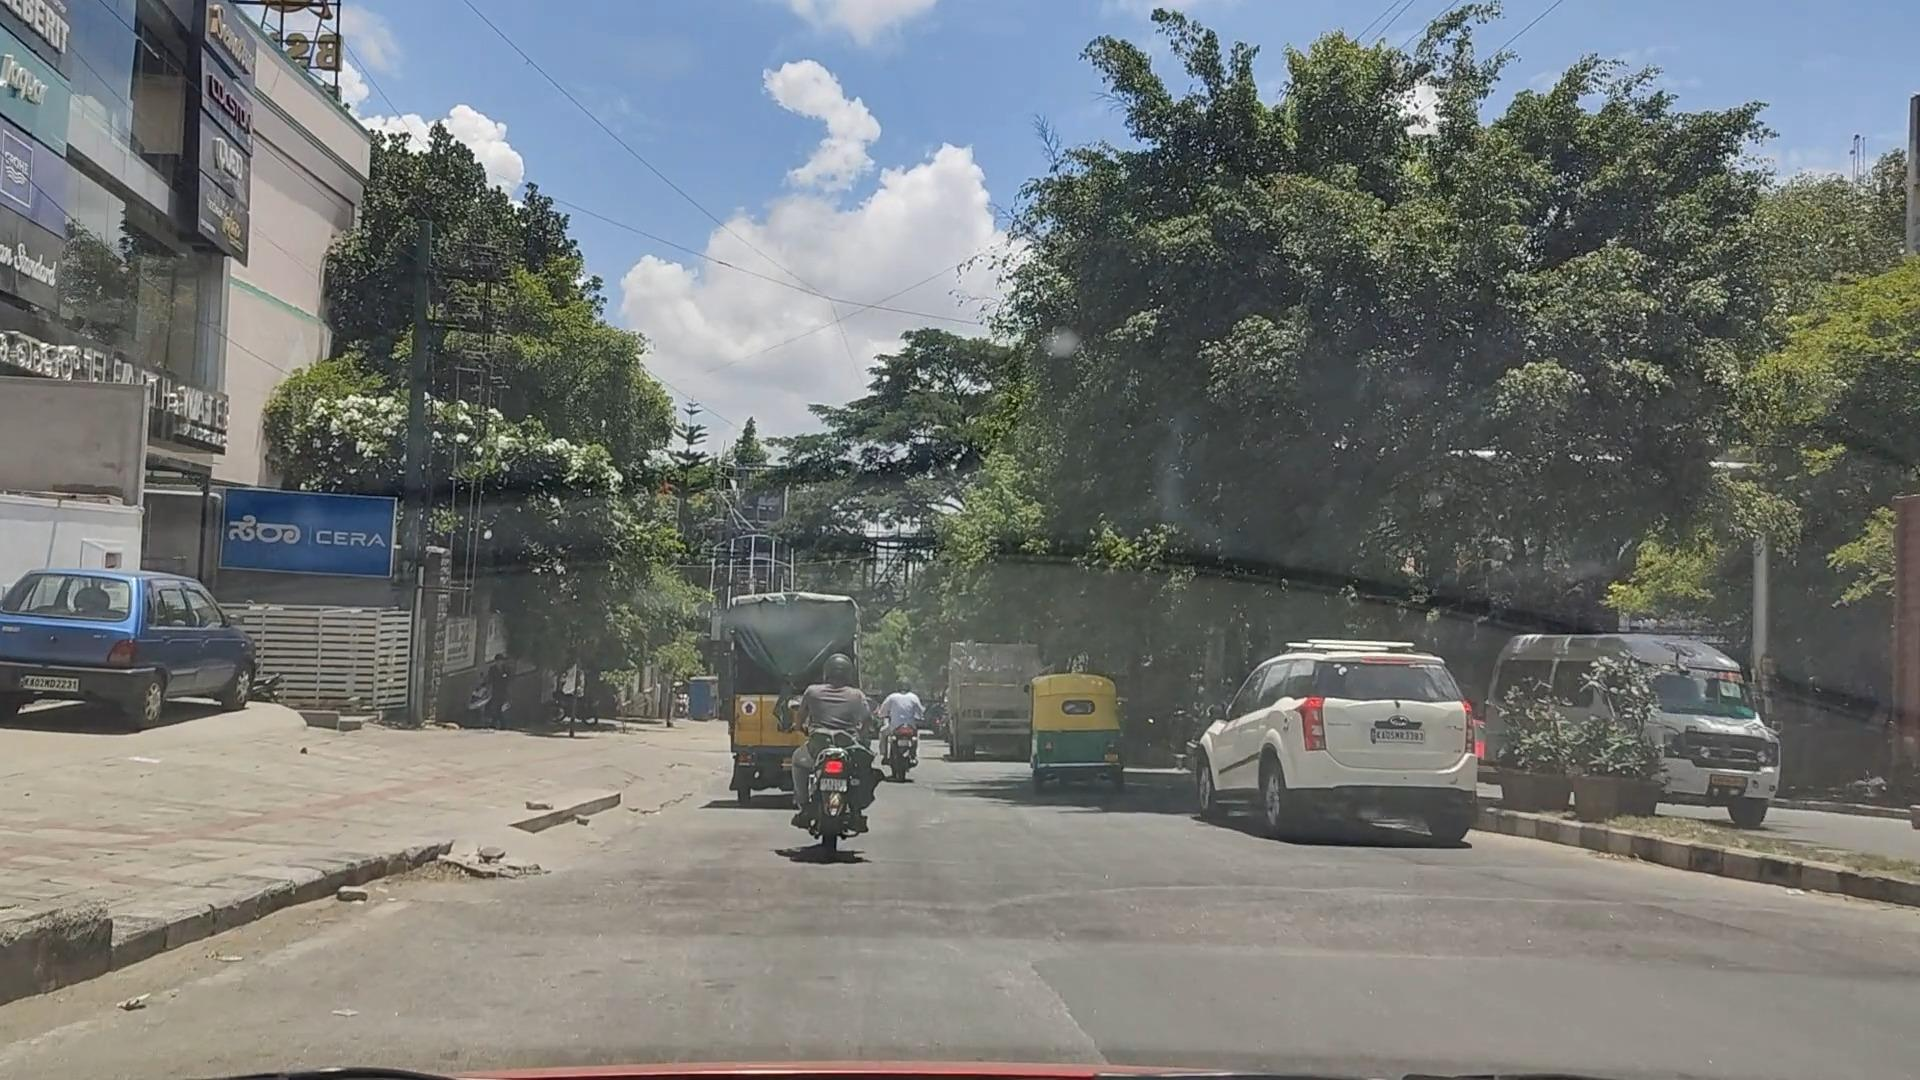HMV: (1481, 579, 1809, 843), (705, 580, 880, 812), (909, 600, 1063, 799)
